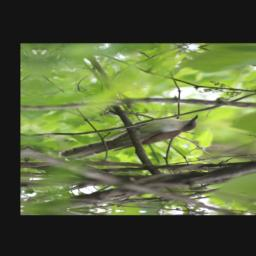Cuckoo: (57, 111, 202, 165)
